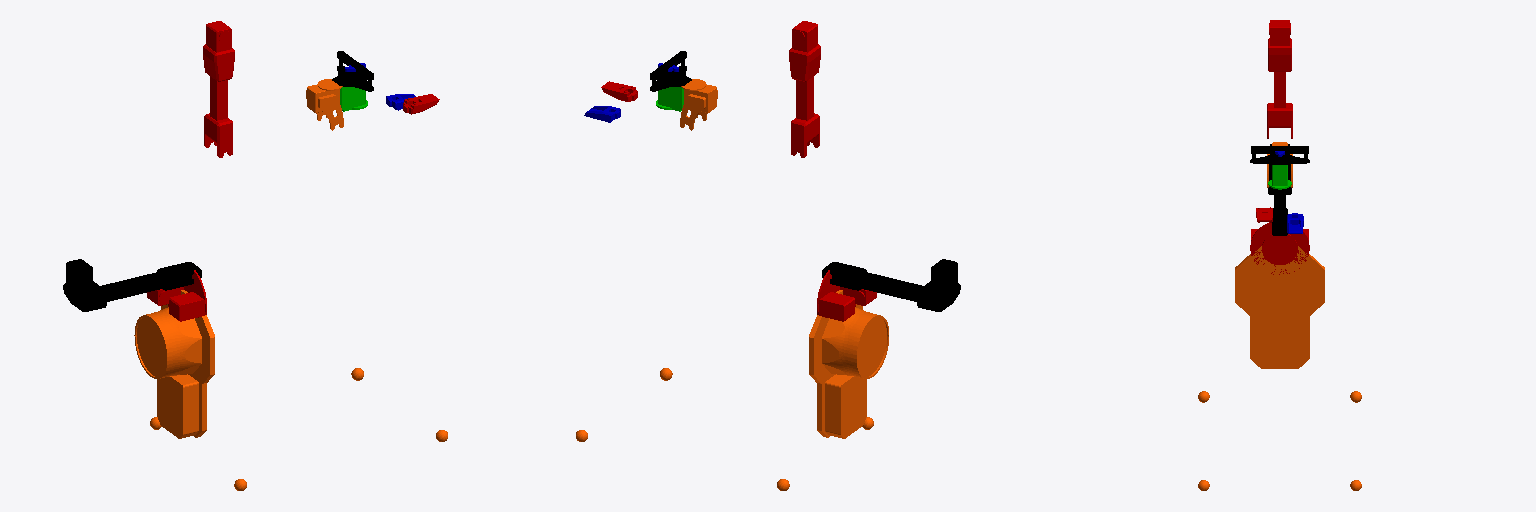
--- Facts derived from the render (not from the file) ---
3 views of the same robot in one strip: view 1: azimuth 30°, elevation 25°; view 2: azimuth 150°, elevation 25°; view 3: azimuth 270°, elevation 25° (orthographic).
Robot: a1_description — 34 links, 33 joints (17 revolute, 2 prismatic, 14 fixed); root link base; default pose: all joints at 0 but 6 set to mid-range because 0 is outside their limits (FR_calf_joint = -1.81, FL_calf_joint = -1.81, RR_calf_joint = -1.81, RL_calf_joint = -1.81, left_finger = 0.026, right_finger = -0.026).
Visible links, largest first — view 1: wx200/ba_link, wx200/upper_arm_link, wx200/forearm_link, wx200/shoulder_link, wx200/wrist_link, wx200/gripper_bar_link, wx200/gripper_link; view 2: wx200/ba_link, wx200/upper_arm_link, wx200/forearm_link, wx200/shoulder_link, wx200/wrist_link, wx200/gripper_bar_link, wx200/gripper_link; view 3: wx200/ba_link, wx200/forearm_link, wx200/shoulder_link, wx200/gripper_bar_link, wx200/upper_arm_link.
Link boxes in pixels (left/top/right/bottom): wx200/ba_link: left=134, top=290, right=214, bottom=438; wx200/upper_arm_link: left=63, top=259, right=201, bottom=311; wx200/forearm_link: left=203, top=21, right=234, bottom=157; wx200/shoulder_link: left=147, top=270, right=206, bottom=321; wx200/wrist_link: left=306, top=79, right=343, bottom=130; wx200/gripper_bar_link: left=332, top=51, right=373, bottom=91; wx200/gripper_link: left=340, top=87, right=367, bottom=111; wx200/ba_link: left=809, top=290, right=888, bottom=438; wx200/upper_arm_link: left=822, top=259, right=960, bottom=311; wx200/forearm_link: left=789, top=21, right=820, bottom=157; wx200/shoulder_link: left=817, top=270, right=876, bottom=321; wx200/wrist_link: left=680, top=79, right=717, bottom=130; wx200/gripper_bar_link: left=650, top=51, right=691, bottom=91; wx200/gripper_link: left=656, top=87, right=683, bottom=111; wx200/ba_link: left=1235, top=246, right=1324, bottom=368; wx200/forearm_link: left=1267, top=20, right=1292, bottom=138; wx200/shoulder_link: left=1250, top=222, right=1309, bottom=274; wx200/gripper_bar_link: left=1250, top=146, right=1309, bottom=164; wx200/upper_arm_link: left=1268, top=144, right=1291, bottom=235.
Size in the robot's own frame: 0.6423 by 0.2816 by 0.7352 metres.
Meshes: 14 distinct files referenced, 10 mesh visuals loaded (9 Collada DAE); not drawn: 13 (reference not matched to a file when rendering).

URDF robot description (a1_description):
<?xml version="1.0" encoding="utf-8"?>
<!-- =================================================================================== -->
<!-- |    This document was autogenerated by xacro from robot.xacro                    | -->
<!-- |    EDITING THIS FILE BY HAND IS NOT RECOMMENDED                                 | -->
<!-- =================================================================================== -->
<robot name="a1_description">
  <!-- dynamics inertial value -->
  <!-- trunk -->
  <!-- <xacro:property name="trunk_mass" value="5.660"/>
    <xacro:property name="trunk_com_x" value="0.012731"/>
    <xacro:property name="trunk_com_y" value="0.002186"/>
    <xacro:property name="trunk_com_z" value="0.000515"/>
    <xacro:property name="trunk_ixx" value="0.016839930"/>
    <xacro:property name="trunk_ixy" value="0.000083902"/>
    <xacro:property name="trunk_ixz" value="0.000597679"/>
    <xacro:property name="trunk_iyy" value="0.056579028"/>
    <xacro:property name="trunk_iyz" value="0.000025134"/>
    <xacro:property name="trunk_izz" value="0.064713601"/> -->
  <material name="black">
    <color rgba="0.0 0.0 0.0 1.0"/>
  </material>
  <material name="blue">
    <color rgba="0.0 0.0 0.8 1.0"/>
  </material>
  <material name="green">
    <color rgba="0.0 0.8 0.0 1.0"/>
  </material>
  <material name="grey">
    <color rgba="0.2 0.2 0.2 1.0"/>
  </material>
  <material name="silver">
    <color rgba="0.913725490196 0.913725490196 0.847058823529 1.0"/>
  </material>
  <material name="orange">
    <color rgba="1.0 0.423529411765 0.0392156862745 1.0"/>
  </material>
  <material name="brown">
    <color rgba="0.870588235294 0.811764705882 0.764705882353 1.0"/>
  </material>
  <material name="red">
    <color rgba="0.8 0.0 0.0 1.0"/>
  </material>
  <material name="white">
    <color rgba="1.0 1.0 1.0 1.0"/>
  </material>
  <!-- ros_control plugin -->
  <gazebo>
    <plugin filename="libgazebo_ros_control.so" name="gazebo_ros_control">
      <robotNamespace>/a1_gazebo</robotNamespace>
      <robotSimType>gazebo_ros_control/DefaultRobotHWSim</robotSimType>
    </plugin>
  </gazebo>
  <!-- Show the trajectory of trunk center. -->
  <gazebo>
    <plugin filename="libLinkPlot3DPlugin.so" name="3dplotTrunk">
      <frequency>10</frequency>
      <plot>
        <link>base</link>
        <pose>0 0 0 0 0 0</pose>
        <material>Gazebo/Yellow</material>
      </plot>
    </plugin>
  </gazebo>
  <!-- Show the trajectory of foot. You can add another trajectory about another foot. -->
  <gazebo>
    <plugin filename="libLinkPlot3DPlugin.so" name="3dplot">
      <frequency>1000</frequency>
      <plot>
        <link>FR_calf</link>
        <pose>0 0 -0.2 0 0 0</pose>
        <material>Gazebo/Yellow</material>
      </plot>
    </plugin>
  </gazebo>
  <gazebo>
    <plugin filename="libgazebo_ros_force.so" name="gazebo_ros_force">
      <bodyName>trunk</bodyName>
      <topicName>/apply_force/trunk</topicName>
    </plugin>
  </gazebo>
  <gazebo reference="imu_link">
    <gravity>true</gravity>
    <sensor name="imu_sensor" type="imu">
      <always_on>true</always_on>
      <update_rate>1000</update_rate>
      <visualize>true</visualize>
      <topic>__default_topic__</topic>
      <plugin filename="libgazebo_ros_imu_sensor.so" name="imu_plugin">
        <topicName>trunk_imu</topicName>
        <bodyName>imu_link</bodyName>
        <updateRateHZ>1000.0</updateRateHZ>
        <gaussianNoise>0.0</gaussianNoise>
        <xyzOffset>0 0 0</xyzOffset>
        <rpyOffset>0 0 0</rpyOffset>
        <frameName>imu_link</frameName>
      </plugin>
      <pose>0 0 0 0 0 0</pose>
    </sensor>
  </gazebo>
  <!-- Foot contacts. -->
  <gazebo reference="FR_calf">
    <sensor name="FR_foot_contact" type="contact">
      <update_rate>100</update_rate>
      <plugin filename="libunitreeFootContactPlugin.so" name="contactPlugin"/>
      <contact>
        <collision>FR_calf_fixed_joint_lump__FR_foot_collision_1</collision>
      </contact>
    </sensor>
  </gazebo>
  <gazebo reference="FL_calf">
    <sensor name="FL_foot_contact" type="contact">
      <update_rate>100</update_rate>
      <plugin filename="libunitreeFootContactPlugin.so" name="contactPlugin"/>
      <contact>
        <collision>FL_calf_fixed_joint_lump__FL_foot_collision_1</collision>
      </contact>
    </sensor>
  </gazebo>
  <gazebo reference="RR_calf">
    <sensor name="RR_foot_contact" type="contact">
      <update_rate>100</update_rate>
      <plugin filename="libunitreeFootContactPlugin.so" name="contactPlugin"/>
      <contact>
        <collision>RR_calf_fixed_joint_lump__RR_foot_collision_1</collision>
      </contact>
    </sensor>
  </gazebo>
  <gazebo reference="RL_calf">
    <sensor name="RL_foot_contact" type="contact">
      <update_rate>100</update_rate>
      <plugin filename="libunitreeFootContactPlugin.so" name="contactPlugin"/>
      <contact>
        <collision>RL_calf_fixed_joint_lump__RL_foot_collision_1</collision>
      </contact>
    </sensor>
  </gazebo>
  <!-- Visualization of Foot contacts. -->
  <gazebo reference="FR_foot">
    <visual>
      <plugin filename="libunitreeDrawForcePlugin.so" name="drawForcePlugin">
        <topicName>FR_foot_contact</topicName>
      </plugin>
    </visual>
  </gazebo>
  <gazebo reference="FL_foot">
    <visual>
      <plugin filename="libunitreeDrawForcePlugin.so" name="drawForcePlugin">
        <topicName>FL_foot_contact</topicName>
      </plugin>
    </visual>
  </gazebo>
  <gazebo reference="RR_foot">
    <visual>
      <plugin filename="libunitreeDrawForcePlugin.so" name="drawForcePlugin">
        <topicName>RR_foot_contact</topicName>
      </plugin>
    </visual>
  </gazebo>
  <gazebo reference="RL_foot">
    <visual>
      <plugin filename="libunitreeDrawForcePlugin.so" name="drawForcePlugin">
        <topicName>RL_foot_contact</topicName>
      </plugin>
    </visual>
  </gazebo>
  <gazebo reference="base">
    <material>Gazebo/Green</material>
    <turnGravityOff>false</turnGravityOff>
  </gazebo>
  <gazebo reference="trunk">
    <mu1>0.2</mu1>
    <mu2>0.2</mu2>
    <kp value="1000000.0"/>
    <kd value="1.0"/>
  </gazebo>
  <gazebo reference="stick_link">
    <mu1>0.2</mu1>
    <mu2>0.2</mu2>
    <material>Gazebo/White</material>
  </gazebo>
  <gazebo reference="imu_link">
    <mu1>0.2</mu1>
    <mu2>0.2</mu2>
    <material>Gazebo/Red</material>
  </gazebo>
  <!-- FL leg -->
  <gazebo reference="FL_hip">
    <mu1>0.2</mu1>
    <mu2>0.2</mu2>
    <material>Gazebo/DarkGrey</material>
  </gazebo>
  <gazebo reference="FL_thigh">
    <mu1>0.2</mu1>
    <mu2>0.2</mu2>
    <self_collide>1</self_collide>
    <material>Gazebo/DarkGrey</material>
    <kp value="1000000.0"/>
    <kd value="1.0"/>
  </gazebo>
  <gazebo reference="FL_calf">
    <mu1>0.2</mu1>
    <mu2>0.2</mu2>
    <self_collide>1</self_collide>
  </gazebo>
  <gazebo reference="FL_foot">
    <mu1>0.6</mu1>
    <mu2>0.6</mu2>
    <self_collide>1</self_collide>
    <material>Gazebo/DarkGrey</material>
    <kp value="1000000.0"/>
    <kd value="1.0"/>
  </gazebo>
  <!-- FR leg -->
  <gazebo reference="FR_hip">
    <mu1>0.2</mu1>
    <mu2>0.2</mu2>
    <material>Gazebo/DarkGrey</material>
  </gazebo>
  <gazebo reference="FR_thigh">
    <mu1>0.2</mu1>
    <mu2>0.2</mu2>
    <self_collide>1</self_collide>
    <material>Gazebo/DarkGrey</material>
    <kp value="1000000.0"/>
    <kd value="1.0"/>
  </gazebo>
  <gazebo reference="FR_calf">
    <mu1>0.2</mu1>
    <mu2>0.2</mu2>
    <self_collide>1</self_collide>
  </gazebo>
  <gazebo reference="FR_foot">
    <mu1>0.6</mu1>
    <mu2>0.6</mu2>
    <self_collide>1</self_collide>
    <material>Gazebo/DarkGrey</material>
    <kp value="1000000.0"/>
    <kd value="1.0"/>
  </gazebo>
  <!-- RL leg -->
  <gazebo reference="RL_hip">
    <mu1>0.2</mu1>
    <mu2>0.2</mu2>
    <material>Gazebo/DarkGrey</material>
  </gazebo>
  <gazebo reference="RL_thigh">
    <mu1>0.2</mu1>
    <mu2>0.2</mu2>
    <self_collide>1</self_collide>
    <material>Gazebo/DarkGrey</material>
    <kp value="1000000.0"/>
    <kd value="1.0"/>
  </gazebo>
  <gazebo reference="RL_calf">
    <mu1>0.2</mu1>
    <mu2>0.2</mu2>
    <self_collide>1</self_collide>
  </gazebo>
  <gazebo reference="RL_foot">
    <mu1>0.6</mu1>
    <mu2>0.6</mu2>
    <self_collide>1</self_collide>
    <material>Gazebo/DarkGrey</material>
    <kp value="1000000.0"/>
    <kd value="1.0"/>
  </gazebo>
  <!-- RR leg -->
  <gazebo reference="RR_hip">
    <mu1>0.2</mu1>
    <mu2>0.2</mu2>
    <material>Gazebo/DarkGrey</material>
  </gazebo>
  <gazebo reference="RR_thigh">
    <mu1>0.2</mu1>
    <mu2>0.2</mu2>
    <self_collide>1</self_collide>
    <material>Gazebo/DarkGrey</material>
    <kp value="1000000.0"/>
    <kd value="1.0"/>
  </gazebo>
  <gazebo reference="RR_calf">
    <mu1>0.2</mu1>
    <mu2>0.2</mu2>
    <self_collide>1</self_collide>
  </gazebo>
  <gazebo reference="RR_foot">
    <mu1>0.6</mu1>
    <mu2>0.6</mu2>
    <self_collide>1</self_collide>
    <material>Gazebo/DarkGrey</material>
    <kp value="1000000.0"/>
    <kd value="1.0"/>
  </gazebo>
  <!-- <xacro:include filename="$(find a1_gazebo)/launch/stairs.urdf.xacro"/> -->
  <!-- <xacro:stairs stairs="15" xpos="0" ypos="0" zpos="0" /> -->
  <!-- Debug mode will hung up the robot, use "true" or "false" to switch it. -->
  <!-- <xacro:if value="$(arg DEBUG)">
        <link name="world"/>
        <joint name="base_static_joint" type="fixed">
            <origin rpy="0 0 0" xyz="0 0 0"/>
            <parent link="world"/>
            <child link="base"/>
        </joint>
    </xacro:if>  -->
  <link name="base">
    <visual>
      <origin rpy="0 0 0" xyz="0 0 0"/>
      <geometry>
        <box size="0.001 0.001 0.001"/>
      </geometry>
    </visual>
  </link>
  <joint name="floating_base" type="fixed">
    <origin rpy="0 0 0" xyz="0 0 0"/>
    <parent link="base"/>
    <child link="trunk"/>
  </joint>
  <link name="trunk">
    <visual>
      <origin rpy="0 0 0" xyz="0 0 0"/>
      <geometry>
        <mesh filename="../meshes/trunk.dae" scale="1 1 1"/>
      </geometry>
      <material name="orange"/>
    </visual>
    <collision>
      <origin rpy="0 0 0" xyz="0 0 0"/>
      <geometry>
        <box size="0.267 0.194 0.114"/>
      </geometry>
    </collision>
    <inertial>
      <origin rpy="0 0 0" xyz="0.0 0.0041 -0.0005"/>
      <mass value="6.0"/>
      <inertia ixx="0.0158533" ixy="-3.66e-05" ixz="-6.11e-05" iyy="0.0377999" iyz="-2.75e-05" izz="0.0456542"/>
    </inertial>
  </link>
  <joint name="imu_joint" type="fixed">
    <parent link="trunk"/>
    <child link="imu_link"/>
    <origin rpy="0 0 0" xyz="0 0 0"/>
  </joint>
  <link name="imu_link">
    <inertial>
      <mass value="0.001"/>
      <origin rpy="0 0 0" xyz="0 0 0"/>
      <inertia ixx="0.0001" ixy="0" ixz="0" iyy="0.0001" iyz="0" izz="0.0001"/>
    </inertial>
    <visual>
      <origin rpy="0 0 0" xyz="0 0 0"/>
      <geometry>
        <box size="0.001 0.001 0.001"/>
      </geometry>
      <material name="red"/>
    </visual>
    <collision>
      <origin rpy="0 0 0" xyz="0 0 0"/>
      <geometry>
        <box size=".001 .001 .001"/>
      </geometry>
    </collision>
  </link>
  <joint name="FR_hip_joint" type="revolute">
    <origin rpy="0 0 0" xyz="0.1805 -0.047 0"/>
    <parent link="trunk"/>
    <child link="FR_hip"/>
    <axis xyz="1 0 0"/>
    <dynamics damping="10.0" friction="10."/>
    <limit effort="33.5" lower="-0.802851455917" upper="0.802851455917" velocity="21"/>
  </joint>
  <link name="FR_hip">
    <visual>
      <origin rpy="3.14159265359 0 0" xyz="0 0 0"/>
      <geometry>
        <mesh filename="../meshes/hip.dae" scale="1 1 1"/>
      </geometry>
      <material name="orange"/>
    </visual>
    <collision>
      <origin rpy="1.57079632679 0 0" xyz="0 0 0"/>
      <geometry>
        <cylinder length="0.04" radius="0.046"/>
      </geometry>
    </collision>
    <inertial>
      <origin rpy="0 0 0" xyz="-0.003311 -0.000635 3.1e-05"/>
      <mass value="0.696"/>
      <inertia ixx="0.000469246" ixy="9.409e-06" ixz="-3.42e-07" iyy="0.00080749" iyz="4.66e-07" izz="0.000552929"/>
    </inertial>
  </link>
  <joint name="FR_hip_fixed" type="fixed">
    <origin rpy="0 0 0" xyz="0 -0.081 0"/>
    <parent link="FR_hip"/>
    <child link="FR_thigh_shoulder"/>
  </joint>
  <!-- this link is only for collision -->
  <link name="FR_thigh_shoulder">
    <collision>
      <origin rpy="1.57079632679 0 0" xyz="0 0 0"/>
      <geometry>
        <cylinder length="0.032" radius="0.041"/>
      </geometry>
    </collision>
  </link>
  <joint name="FR_thigh_joint" type="revolute">
    <origin rpy="0 0 0" xyz="0 -0.0838 0"/>
    <parent link="FR_hip"/>
    <child link="FR_thigh"/>
    <axis xyz="0 1 0"/>
    <dynamics damping="10.0" friction="10."/>
    <limit effort="33.5" lower="-1.0471975512" upper="4.18879020479" velocity="21"/>
  </joint>
  <link name="FR_thigh">
    <visual>
      <origin rpy="0 0 0" xyz="0 0 0"/>
      <geometry>
        <mesh filename="../meshes/thigh_mirror.dae" scale="1 1 1"/>
      </geometry>
      <material name="orange"/>
    </visual>
    <collision>
      <origin rpy="0 1.57079632679 0" xyz="0 0 -0.1"/>
      <geometry>
        <box size="0.2 0.0245 0.034"/>
      </geometry>
    </collision>
    <inertial>
      <origin rpy="0 0 0" xyz="-0.003237 0.022327 -0.027326"/>
      <mass value="1.013"/>
      <inertia ixx="0.005529065" ixy="-4.825e-06" ixz="0.000343869" iyy="0.005139339" iyz="-2.2448e-05" izz="0.001367788"/>
    </inertial>
  </link>
  <joint name="FR_calf_joint" type="revolute">
    <origin rpy="0 0 0" xyz="0 0 -0.2"/>
    <parent link="FR_thigh"/>
    <child link="FR_calf"/>
    <axis xyz="0 1 0"/>
    <dynamics damping="10.0" friction="10."/>
    <limit effort="33.5" lower="-2.69653369433" upper="-0.916297857297" velocity="21"/>
  </joint>
  <link name="FR_calf">
    <visual>
      <origin rpy="0 0 0" xyz="0 0 0"/>
      <geometry>
        <mesh filename="../meshes/calf.dae" scale="1 1 1"/>
      </geometry>
      <material name="orange"/>
    </visual>
    <collision>
      <origin rpy="0 1.57079632679 0" xyz="0 0 -0.1"/>
      <geometry>
        <box size="0.2 0.016 0.016"/>
      </geometry>
    </collision>
    <inertial>
      <origin rpy="0 0 0" xyz="0.006435 0.0 -0.107388"/>
      <mass value="0.166"/>
      <inertia ixx="0.002997972" ixy="0.0" ixz="-0.000141163" iyy="0.003014022" iyz="0.0" izz="3.2426e-05"/>
    </inertial>
  </link>
  <joint name="FR_foot_fixed" type="fixed" dont_collapse="true">
    <origin rpy="0 0 0" xyz="0 0 -0.2"/>
    <parent link="FR_calf"/>
    <child link="FR_foot"/>
  </joint>
  <link name="FR_foot">
    <visual>
      <origin rpy="0 0 0" xyz="0 0 0"/>
      <geometry>
        <sphere radius="0.01"/>
      </geometry>
      <material name="orange"/>
    </visual>
    <collision>
      <origin rpy="0 0 0" xyz="0 0 0"/>
      <geometry>
        <sphere radius="0.02"/>
      </geometry>
    </collision>
    <inertial>
      <mass value="0.06"/>
      <inertia ixx="9.6e-06" ixy="0.0" ixz="0.0" iyy="9.6e-06" iyz="0.0" izz="9.6e-06"/>
    </inertial>
  </link>
  <transmission name="FR_hip_tran">
    <type>transmission_interface/SimpleTransmission</type>
    <joint name="FR_hip_joint">
      <hardwareInterface>hardware_interface/EffortJointInterface</hardwareInterface>
    </joint>
    <actuator name="FR_hip_motor">
      <hardwareInterface>hardware_interface/EffortJointInterface</hardwareInterface>
      <mechanicalReduction>1</mechanicalReduction>
    </actuator>
  </transmission>
  <transmission name="FR_thigh_tran">
    <type>transmission_interface/SimpleTransmission</type>
    <joint name="FR_thigh_joint">
      <hardwareInterface>hardware_interface/EffortJointInterface</hardwareInterface>
    </joint>
    <actuator name="FR_thigh_motor">
      <hardwareInterface>hardware_interface/EffortJointInterface</hardwareInterface>
      <mechanicalReduction>1</mechanicalReduction>
    </actuator>
  </transmission>
  <transmission name="FR_calf_tran">
    <type>transmission_interface/SimpleTransmission</type>
    <joint name="FR_calf_joint">
      <hardwareInterface>hardware_interface/EffortJointInterface</hardwareInterface>
    </joint>
    <actuator name="FR_calf_motor">
      <hardwareInterface>hardware_interface/EffortJointInterface</hardwareInterface>
      <mechanicalReduction>1</mechanicalReduction>
    </actuator>
  </transmission>
  <joint name="FL_hip_joint" type="revolute">
    <origin rpy="0 0 0" xyz="0.1805 0.047 0"/>
    <parent link="trunk"/>
    <child link="FL_hip"/>
    <axis xyz="1 0 0"/>
    <dynamics damping="10.0" friction="10."/>
    <limit effort="33.5" lower="-0.802851455917" upper="0.802851455917" velocity="21"/>
  </joint>
  <link name="FL_hip">
    <visual>
      <origin rpy="0 0 0" xyz="0 0 0"/>
      <geometry>
        <mesh filename="../meshes/hip.dae" scale="1 1 1"/>
      </geometry>
      <material name="orange"/>
    </visual>
    <collision>
      <origin rpy="1.57079632679 0 0" xyz="0 0 0"/>
      <geometry>
        <cylinder length="0.04" radius="0.046"/>
      </geometry>
    </collision>
    <inertial>
      <origin rpy="0 0 0" xyz="-0.003311 0.000635 3.1e-05"/>
      <mass value="0.696"/>
      <inertia ixx="0.000469246" ixy="-9.409e-06" ixz="-3.42e-07" iyy="0.00080749" iyz="-4.66e-07" izz="0.000552929"/>
    </inertial>
  </link>
  <joint name="FL_hip_fixed" type="fixed">
    <origin rpy="0 0 0" xyz="0 0.081 0"/>
    <parent link="FL_hip"/>
    <child link="FL_thigh_shoulder"/>
  </joint>
  <!-- this link is only for collision -->
  <link name="FL_thigh_shoulder">
    <collision>
      <origin rpy="1.57079632679 0 0" xyz="0 0 0"/>
      <geometry>
        <cylinder length="0.032" radius="0.041"/>
      </geometry>
    </collision>
  </link>
  <joint name="FL_thigh_joint" type="revolute">
    <origin rpy="0 0 0" xyz="0 0.0838 0"/>
    <parent link="FL_hip"/>
    <child link="FL_thigh"/>
    <axis xyz="0 1 0"/>
    <dynamics damping="10.0" friction="10."/>
    <limit effort="33.5" lower="-1.0471975512" upper="4.18879020479" velocity="21"/>
  </joint>
  <link name="FL_thigh">
    <visual>
      <origin rpy="0 0 0" xyz="0 0 0"/>
      <geometry>
        <mesh filename="../meshes/thigh.dae" scale="1 1 1"/>
      </geometry>
      <material name="orange"/>
    </visual>
    <collision>
      <origin rpy="0 1.57079632679 0" xyz="0 0 -0.1"/>
      <geometry>
        <box size="0.2 0.0245 0.034"/>
      </geometry>
    </collision>
    <inertial>
      <origin rpy="0 0 0" xyz="-0.003237 -0.022327 -0.027326"/>
      <mass value="1.013"/>
      <inertia ixx="0.005529065" ixy="4.825e-06" ixz="0.000343869" iyy="0.005139339" iyz="2.2448e-05" izz="0.001367788"/>
    </inertial>
  </link>
  <joint name="FL_calf_joint" type="revolute">
    <origin rpy="0 0 0" xyz="0 0 -0.2"/>
    <parent link="FL_thigh"/>
    <child link="FL_calf"/>
    <axis xyz="0 1 0"/>
    <dynamics damping="10.0" friction="10."/>
    <limit effort="33.5" lower="-2.69653369433" upper="-0.916297857297" velocity="21"/>
  </joint>
  <link name="FL_calf">
    <visual>
      <origin rpy="0 0 0" xyz="0 0 0"/>
      <geometry>
        <mesh filename="../meshes/calf.dae" scale="1 1 1"/>
      </geometry>
      <material name="orange"/>
    </visual>
    <collision>
      <origin rpy="0 1.57079632679 0" xyz="0 0 -0.1"/>
      <geometry>
        <box size="0.2 0.016 0.016"/>
      </geometry>
    </collision>
    <inertial>
      <origin rpy="0 0 0" xyz="0.006435 0.0 -0.107388"/>
      <mass value="0.166"/>
      <inertia ixx="0.002997972" ixy="0.0" ixz="-0.000141163" iyy="0.003014022" iyz="0.0" izz="3.2426e-05"/>
    </inertial>
  </link>
  <joint name="FL_foot_fixed" type="fixed" dont_collapse="true">
    <origin rpy="0 0 0" xyz="0 0 -0.2"/>
    <parent link="FL_calf"/>
    <child link="FL_foot"/>
  </joint>
  <link name="FL_foot">
    <visual>
      <origin rpy="0 0 0" xyz="0 0 0"/>
      <geometry>
        <sphere radius="0.01"/>
      </geometry>
      <material name="orange"/>
    </visual>
    <collision>
      <origin rpy="0 0 0" xyz="0 0 0"/>
      <geometry>
        <sphere radius="0.02"/>
      </geometry>
    </collision>
    <inertial>
      <mass value="0.06"/>
      <inertia ixx="9.6e-06" ixy="0.0" ixz="0.0" iyy="9.6e-06" iyz="0.0" izz="9.6e-06"/>
    </inertial>
  </link>
  <transmission name="FL_hip_tran">
    <type>transmission_interface/SimpleTransmission</type>
    <joint name="FL_hip_joint">
      <hardwareInterface>hardware_interface/EffortJointInterface</hardwareInterface>
    </joint>
    <actuator name="FL_hip_motor">
      <hardwareInterface>hardware_interface/EffortJointInterface</hardwareInterface>
      <mechanicalReduction>1</mechanicalReduction>
    </actuator>
  </transmission>
  <transmission name="FL_thigh_tran">
    <type>transmission_interface/SimpleTransmission</type>
    <joint name="FL_thigh_joint">
      <hardwareInterface>hardware_interface/EffortJointInterface</hardwareInterface>
    </joint>
    <actuator name="FL_thigh_motor">
      <hardwareInterface>hardware_interface/EffortJointInterface</hardwareInterface>
      <mechanicalReduction>1</mechanicalReduction>
    </actuator>
  </transmission>
  <transmission name="FL_calf_tran">
    <type>transmission_interface/SimpleTransmission</type>
    <joint name="FL_calf_joint">
      <hardwareInterface>hardware_interface/EffortJointInterface</hardwareInterface>
    </joint>
    <actuator name="FL_calf_motor">
      <hardwareInterface>hardware_interface/EffortJointInterface</hardwareInterface>
      <mechanicalReduction>1</mechanicalReduction>
    </actuator>
  </transmission>
  <joint name="RR_hip_joint" type="revolute">
    <origin rpy="0 0 0" xyz="-0.1805 -0.047 0"/>
    <parent link="trunk"/>
    <child link="RR_hip"/>
    <axis xyz="1 0 0"/>
    <dynamics damping="10.0" friction="10."/>
    <limit effort="33.5" lower="-0.802851455917" upper="0.802851455917" velocity="21"/>
  </joint>
  <link name="RR_hip">
    <visual>
      <origin rpy="3.14159265359 3.14159265359 0" xyz="0 0 0"/>
      <geometry>
        <mesh filename="../meshes/hip.dae" scale="1 1 1"/>
      </geometry>
      <material name="orange"/>
    </visual>
    <collision>
      <origin rpy="1.57079632679 0 0" xyz="0 0 0"/>
      <geometry>
        <cylinder length="0.04" radius="0.046"/>
      </geometry>
    </collision>
    <inertial>
      <origin rpy="0 0 0" xyz="0.003311 -0.000635 3.1e-05"/>
      <mass value="0.696"/>
      <inertia ixx="0.000469246" ixy="-9.409e-06" ixz="3.42e-07" iyy="0.00080749" iyz="4.66e-07" izz="0.000552929"/>
    </inertial>
  </link>
  <joint name="RR_hip_fixed" type="fixed">
    <origin rpy="0 0 0" xyz="0 -0.081 0"/>
    <parent link="RR_hip"/>
    <child link="RR_thigh_shoulder"/>
  </joint>
  <!-- this link is only for collision -->
  <link name="RR_thigh_shoulder">
    <collision>
      <origin rpy="1.57079632679 0 0" xyz="0 0 0"/>
      <geometry>
        <cylinder length="0.032" radius="0.041"/>
      </geometry>
    </collision>
  </link>
  <joint name="RR_thigh_joint" type="revolute">
    <origin rpy="0 0 0" xyz="0 -0.0838 0"/>
    <parent link="RR_hip"/>
    <child link="RR_thigh"/>
    <axis xyz="0 1 0"/>
    <dynamics damping="10.0" friction="10."/>
    <limit effort="33.5" lower="-1.0471975512" upper="4.18879020479" velocity="21"/>
  </joint>
  <link name="RR_thigh">
    <visual>
      <origin rpy="0 0 0" xyz="0 0 0"/>
      <geometry>
        <mesh filename="../meshes/thigh_mirror.dae" scale="1 1 1"/>
      </geometry>
      <material name="orange"/>
    </visual>
    <collision>
      <origin rpy="0 1.57079632679 0" xyz="0 0 -0.1"/>
      <geometry>
        <box size="0.2 0.0245 0.034"/>
      </geometry>
    </collision>
    <inertial>
      <origin rpy="0 0 0" xyz="-0.003237 0.022327 -0.027326"/>
      <mass value="1.013"/>
      <inertia ixx="0.005529065" ixy="-4.825e-06" ixz="0.000343869" iyy="0.005139339" iyz="-2.2448e-05" izz="0.001367788"/>
    </inertial>
  </link>
  <joint name="RR_calf_joint" type="revolute">
    <origin rpy="0 0 0" xyz="0 0 -0.2"/>
    <parent link="RR_thigh"/>
    <child link="RR_calf"/>
    <axis xyz="0 1 0"/>
    <dynamics damping="10.0" friction="10."/>
    <limit effort="33.5" lower="-2.69653369433" upper="-0.916297857297" velocity="21"/>
  </joint>
  <link name="RR_calf">
    <visual>
      <origin rpy="0 0 0" xyz="0 0 0"/>
      <geometry>
        <mesh filename="../meshes/calf.dae" scale="1 1 1"/>
      </geometry>
      <material name="orange"/>
    </visual>
    <collision>
      <origin rpy="0 1.57079632679 0" xyz="0 0 -0.1"/>
      <geometry>
        <box size="0.2 0.016 0.016"/>
      </geometry>
    </collision>
    <inertial>
      <origin rpy="0 0 0" xyz="0.006435 0.0 -0.107388"/>
      <mass value="0.166"/>
      <inertia ixx="0.002997972" ixy="0.0" ixz="-0.000141163" iyy="0.003014022" iyz="0.0" izz="3.2426e-05"/>
    </inertial>
  </link>
  <joint name="RR_foot_fixed" type="fixed" dont_collapse="true">
    <origin rpy="0 0 0" xyz="0 0 -0.2"/>
    <parent link="RR_calf"/>
    <child link="RR_foot"/>
  </joint>
  <link name="RR_foot">
    <visual>
      <origin rpy="0 0 0" xyz="0 0 0"/>
      <geometry>
        <sphere radius="0.01"/>
      </geometry>
      <material name="orange"/>
    </visual>
    <collision>
      <origin rpy="0 0 0" xyz="0 0 0"/>
      <geometry>
        <sphere radius="0.02"/>
      </geometry>
    </collision>
    <inertial>
      <mass value="0.06"/>
      <inertia ixx="9.6e-06" ixy="0.0" ixz="0.0" iyy="9.6e-06" iyz="0.0" izz="9.6e-06"/>
    </inertial>
  </link>
  <transmission name="RR_hip_tran">
    <type>transmission_interface/SimpleTransmission</type>
    <joint name="RR_hip_joint">
      <hardwareInterface>hardware_interface/EffortJointInterface</hardwareInterface>
    </joint>
    <actuator name="RR_hip_motor">
      <hardwareInterface>hardware_interface/EffortJointInterface</hardwareInterface>
      <mechanicalReduction>1</mechanicalReduction>
    </actuator>
  </transmission>
  <transmission name="RR_thigh_tran">
    <type>transmission_interface/SimpleTransmission</type>
    <joint name="RR_thigh_joint">
      <hardwareInterface>hardware_interface/EffortJointInterface</hardwareInterface>
    </joint>
    <actuator name="RR_thigh_motor">
      <hardwareInterface>hardware_interface/EffortJointInterface</hardwareInterface>
      <mechanicalReduction>1</mechanicalReduction>
    </actuator>
  </transmission>
  <transmission name="RR_calf_tran">
    <type>transmission_interface/SimpleTransmission</type>
    <joint name="RR_calf_joint">
      <hardwareInterface>hardware_interface/EffortJointInterface</hardwareInterface>
    </joint>
    <actuator name="RR_calf_motor">
      <hardwareInterface>hardware_interface/EffortJointInterface</hardwareInterface>
      <mechanicalReduction>1</mechanicalReduction>
    </actuator>
  </transmission>
  <joint name="RL_hip_joint" type="revolute">
    <origin rpy="0 0 0" xyz="-0.1805 0.047 0"/>
    <parent link="trunk"/>
    <child link="RL_hip"/>
    <axis xyz="1 0 0"/>
    <dynamics damping="10.0" friction="10."/>
    <limit effort="33.5" lower="-0.802851455917" upper="0.802851455917" velocity="21"/>
  </joint>
  <link name="RL_hip">
    <visual>
      <origin rpy="0 3.14159265359 0" xyz="0 0 0"/>
      <geometry>
        <mesh filename="../meshes/hip.dae" scale="1 1 1"/>
      </geometry>
      <material name="orange"/>
    </visual>
    <collision>
      <origin rpy="1.57079632679 0 0" xyz="0 0 0"/>
      <geometry>
        <cylinder length="0.04" radius="0.046"/>
      </geometry>
    </collision>
    <inertial>
      <origin rpy="0 0 0" xyz="0.003311 0.000635 3.1e-05"/>
      <mass value="0.696"/>
      <inertia ixx="0.000469246" ixy="9.409e-06" ixz="3.42e-07" iyy="0.00080749" iyz="-4.66e-07" izz="0.000552929"/>
    </inertial>
  </link>
  <joint name="RL_hip_fixed" type="fixed">
    <origin rpy="0 0 0" xyz="0 0.081 0"/>
    <parent link="RL_hip"/>
    <child link="RL_thigh_shoulder"/>
  </joint>
  <!-- this link is only for collision -->
  <link name="RL_thigh_shoulder">
    <collision>
      <origin rpy="1.57079632679 0 0" xyz="0 0 0"/>
      <geometry>
        <cylinder length="0.032" radius="0.041"/>
      </geometry>
    </collision>
  </link>
  <joint name="RL_thigh_joint" type="revolute">
    <origin rpy="0 0 0" xyz="0 0.0838 0"/>
    <parent link="RL_hip"/>
    <child link="RL_thigh"/>
    <axis xyz="0 1 0"/>
    <dynamics damping="10.0" friction="10."/>
    <limit effort="33.5" lower="-1.0471975512" upper="4.18879020479" velocity="21"/>
  </joint>
  <link name="RL_thigh">
    <visual>
      <origin rpy="0 0 0" xyz="0 0 0"/>
      <geometry>
        <mesh filename="../meshes/thigh.dae" scale="1 1 1"/>
      </geometry>
      <material name="orange"/>
    </visual>
    <collision>
      <origin rpy="0 1.57079632679 0" xyz="0 0 -0.1"/>
      <geometry>
        <box size="0.2 0.0245 0.034"/>
      </geometry>
    </collision>
    <inertial>
      <origin rpy="0 0 0" xyz="-0.003237 -0.022327 -0.027326"/>
      <mass value="1.013"/>
      <inertia ixx="0.005529065" ixy="4.825e-06" ixz="0.000343869" iyy="0.005139339" iyz="2.2448e-05" izz="0.001367788"/>
    </inertial>
  </link>
  <joint name="RL_calf_joint" type="revolute">
    <origin rpy="0 0 0" xyz="0 0 -0.2"/>
    <parent link="RL_thigh"/>
    <child link="RL_calf"/>
    <axis xyz="0 1 0"/>
    <dynamics damping="10.0" friction="10."/>
    <limit effort="33.5" lower="-2.69653369433" upper="-0.916297857297" velocity="21"/>
  </joint>
  <link name="RL_calf">
    <visual>
      <origin rpy="0 0 0" xyz="0 0 0"/>
      <geometry>
        <mesh filename="../meshes/calf.dae" scale="1 1 1"/>
      </geometry>
      <material name="orange"/>
    </visual>
    <collision>
      <origin rpy="0 1.57079632679 0" xyz="0 0 -0.1"/>
      <geometry>
        <box size="0.2 0.016 0.016"/>
      </geometry>
    </collision>
    <inertial>
      <origin rpy="0 0 0" xyz="0.006435 0.0 -0.107388"/>
      <mass value="0.166"/>
      <inertia ixx="0.002997972" ixy="0.0" ixz="-0.000141163" iyy="0.003014022" iyz="0.0" izz="3.2426e-05"/>
    </inertial>
  </link>
  <joint name="RL_foot_fixed" type="fixed" dont_collapse="true">
    <origin rpy="0 0 0" xyz="0 0 -0.2"/>
    <parent link="RL_calf"/>
    <child link="RL_foot"/>
  </joint>
  <link name="RL_foot">
    <visual>
      <origin rpy="0 0 0" xyz="0 0 0"/>
      <geometry>
        <sphere radius="0.01"/>
      </geometry>
      <material name="orange"/>
    </visual>
    <collision>
      <origin rpy="0 0 0" xyz="0 0 0"/>
      <geometry>
        <sphere radius="0.02"/>
      </geometry>
    </collision>
    <inertial>
      <mass value="0.06"/>
      <inertia ixx="9.6e-06" ixy="0.0" ixz="0.0" iyy="9.6e-06" iyz="0.0" izz="9.6e-06"/>
    </inertial>
  </link>
  <transmission name="RL_hip_tran">
    <type>transmission_interface/SimpleTransmission</type>
    <joint name="RL_hip_joint">
      <hardwareInterface>hardware_interface/EffortJointInterface</hardwareInterface>
    </joint>
    <actuator name="RL_hip_motor">
      <hardwareInterface>hardware_interface/EffortJointInterface</hardwareInterface>
      <mechanicalReduction>1</mechanicalReduction>
    </actuator>
  </transmission>
  <transmission name="RL_thigh_tran">
    <type>transmission_interface/SimpleTransmission</type>
    <joint name="RL_thigh_joint">
      <hardwareInterface>hardware_interface/EffortJointInterface</hardwareInterface>
    </joint>
    <actuator name="RL_thigh_motor">
      <hardwareInterface>hardware_interface/EffortJointInterface</hardwareInterface>
      <mechanicalReduction>1</mechanicalReduction>
    </actuator>
  </transmission>
  <transmission name="RL_calf_tran">
    <type>transmission_interface/SimpleTransmission</type>
    <joint name="RL_calf_joint">
      <hardwareInterface>hardware_interface/EffortJointInterface</hardwareInterface>
    </joint>
    <actuator name="RL_calf_motor">
      <hardwareInterface>hardware_interface/EffortJointInterface</hardwareInterface>
      <mechanicalReduction>1</mechanicalReduction>
    </actuator>
  </transmission>
  <!-- <xacro:stairs stairs="15" xpos="0" ypos="2.0" zpos="0" /> -->

<!-- connect with the arm -->
  <joint name="base_static_joint" type="fixed">
    <origin rpy="0 -1.57 0" xyz="0. 0 0.05"/>
    <parent link="trunk"/>
    <child link="wx200/ba_link"/>
  </joint>

  <link name="wx200/ba_link">
    <visual>
      <origin rpy="0 0 1.57079632679" xyz="0 0 0"/>
      <geometry>
        <mesh filename="../meshes/wx200_1_base.dae" scale="0.001 0.001 0.001"/>
      </geometry>
      <material name="orange"/>
    </visual>
    <collision>
      <!-- <origin rpy="0 0 1.57079632679" xyz="0 0 0"/> -->
      <origin rpy="1.57079632679 0 1.57079632679" xyz="0 0 0"/>
      <geometry>
        <mesh filename="../meshes/wx200_1_base.dae" scale="0.001 0.001 0.001"/>
      </geometry>
    </collision>
    <inertial>
      <origin rpy="0 0 1.57079632679" xyz="-0.0381747000 0.0006478630 0.0193458000"/>
      <mass value="0.540142"/>
      <inertia ixx="0.0021190000" ixy="-0.0000172100" ixz="0.0000006389" iyy="0.0006925000" iyz="0.0000461200" izz="0.0025280000"/>
    </inertial>
  </link>

  <joint name="waist" type="revolute">
    <axis xyz="1 0 0"/>
    <limit effort="28" lower="-3.14158265359" upper="3.14158265359" velocity="13.14159265359"/>
    <!-- <origin rpy="0 0 0" xyz="0 0 0.072"/> -->
    <origin rpy="0 0 0" xyz="0.072 0 0"/>
    <parent link="wx200/ba_link"/>
    <child link="wx200/shoulder_link"/>
    <dynamics damping="0.0" friction="0."/>
  </joint>

  <link name="wx200/shoulder_link">
    <visual>
      <origin rpy="0 0 1.57079632679" xyz="0 0 -0.003"/>
      <geometry>
        <mesh filename="../meshes/wx200_2_shoulder.dae" scale="0.001 0.001 0.001"/>
      </geometry>
      <material name="red"/>
    </visual>
    <collision>
      <!-- <origin rpy="0 0 1.57079632679" xyz="0 0 -0.003"/> -->
      <origin rpy="1.57079632679 0 1.57079632679" xyz="0 0 -0.003"/>
      <geometry>
        <mesh filename="../meshes/wx200_2_shoulder.dae" scale="0.001 0.001 0.001"/>
      </geometry>
    </collision>
    <inertial>
      <origin rpy="0 0 1.57079632679" xyz="0.0000223210 0.0000414608 0.0066287000"/>
      <mass value="0.480879"/>
      <inertia ixx="0.0003790000" ixy="0.0000000022" ixz="-0.0000003561" iyy="0.0005557000" iyz="0.0000012247" izz="0.0005889000"/>
    </inertial>
  </link>

  <joint name="shoulder" type="revolute">
    <!-- <axis xyz="0 1 0"/> -->
    <axis xyz="0 1 0"/>
    <limit effort="18" lower="-1.88495559215" upper="1.97222205475" velocity="3.14159265359"/>
    <!-- <origin rpy="0 0 0" xyz="0 0 0.03865"/> -->
    <origin rpy="0 0 0" xyz="0.03865 0 0"/>
    <parent link="wx200/shoulder_link"/>
    <child link="wx200/upper_arm_link"/>
    <dynamics damping="0.0" friction="0."/>
  </joint>
 
  <link name="wx200/upper_arm_link">
    <visual>
      <origin rpy="0 0 1.57079632679" xyz="0 0 0"/>
      <geometry>
        <mesh filename="../meshes/wx200_3_upper_arm.dae" scale="0.001 0.001 0.001"/>
      </geometry>
      <material name="black"/>
    </visual>
    <collision>
      <!-- <origin rpy="0 0 1.57079632679" xyz="0 0 0"/> -->
      <origin rpy="1.57079632679 0 1.57079632679" xyz="0 0 0"/>
      <geometry>
        <mesh filename="../meshes/wx200_3_upper_arm.dae" scale="0.001 0.001 0.001"/>
      </geometry>
    </collision>
    <inertial>
      <origin rpy="0 0 1.57079632679" xyz="0.0119707000 -0.0001179264 0.1394290000"/>
      <mass value="0.297781"/>
      <inertia ixx="0.0017100000" ixy="-0.0000011433" ixz="0.0000021161" iyy="0.0016310000" iyz="0.0002135000" izz="0.0001482000"/>
    </inertial>
  </link>

  <joint name="elbow" type="revolute">
    <!-- <axis xyz="0 1 0"/> -->
    <axis xyz="0 1 0"/>
    <limit effort="13" lower="-1.88495559215" upper="1.62315620435" velocity="3.14159265359"/>
    <!-- <origin rpy="0 0 0" xyz="0.05 0 0.2"/> -->
    <origin rpy="0 0 0" xyz="0.2 0 -0.05"/>
    <parent link="wx200/upper_arm_link"/>
    <child link="wx200/forearm_link"/>
    <dynamics damping="0.0" friction="0."/>
  </joint>
 
  <link name="wx200/forearm_link">
    <visual>
      <origin rpy="0 0 1.57079632679" xyz="0 0 0"/>
      <geometry>
        <mesh filename="../meshes/wx200_4_forearm.dae" scale="0.001 0.001 0.001"/>
      </geometry>
      <material name="red"/>
    </visual>
    <collision>
      <!-- <origin rpy="0 0 1.57079632679" xyz="0 0 0"/> -->
      <origin rpy="1.57079632679 0 1.57079632679" xyz="0 0 0"/>
      <geometry>
        <mesh filename="../meshes/wx200_4_forearm.dae" scale="0.001 0.001 0.001"/>
      </geometry>
    </collision>
    <inertial>
      <origin rpy="0 0 1.57079632679" xyz="0.1211920000 -0.0001238123 0.0000000000"/>
      <mass value="0.283651"/>
      <inertia ixx="0.0011850000" ixy="-0.0000024317" ixz="0.0000000000" iyy="0.0000682900" iyz="0.0000000000" izz="0.0012060000"/>
    </inertial>
  </link>

  <joint name="wrist_angle" type="revolute">
    <axis xyz="0 1 0"/>
    <limit effort="5" lower="-1.74532925199" upper="2.14675497995" velocity="3.14159265359"/>
    <!-- <origin rpy="0 0 0" xyz="0.2 0 0"/> -->
    <origin rpy="0 0 0" xyz="0 0 -0.2"/>
    <parent link="wx200/forearm_link"/>
    <child link="wx200/wrist_link"/>
    <dynamics damping="0.0" friction="0."/>
  </joint>
 
  <link name="wx200/wrist_link">
    <visual>
      <origin rpy="0 0 1.57079632679" xyz="0 0 0"/>
      <geometry>
        <mesh filename="../meshes/wx200_5_wrist.dae" scale="0.001 0.001 0.001"/>
      </geometry>
      <material name="orange"/>
    </visual>
    <collision>
      <!-- <origin rpy="0 0 1.57079632679" xyz="0 0 0"/> -->
      <origin rpy="1.57079632679 0 1.57079632679" xyz="0 0 0"/>
      <geometry>
        <mesh filename="../meshes/wx200_5_wrist.dae" scale="0.001 0.001 0.001"/>
      </geometry>
    </collision>
    <inertial>
      <origin rpy="0 0 1.57079632679" xyz="0.0423600000 -0.0000106630 0.0105770000"/>
      <mass value="0.084957"/>
      <inertia ixx="0.0000308200" ixy="0.0000000191" ixz="0.0000000023" iyy="0.0000282200" iyz="0.0000025481" izz="0.0000315200"/>
    </inertial>
  </link>

  <joint name="wrist_rotate" type="revolute">
    <!-- <axis xyz="1 0 0"/> -->
    <axis xyz="0 0 -1"/>
    <limit effort="1" lower="-3.14158265359" upper="3.14158265359" velocity="3.14159265359"/>
    <!-- <origin rpy="0 0 0" xyz="0.065 0 0"/> -->
    <origin rpy="0 0 0" xyz="0.0 0 -0.045"/>
    <parent link="wx200/wrist_link"/>
    <child link="wx200/gripper_link"/>
    <dynamics damping="0.0" friction="0."/>
  </joint>
 
  <link name="wx200/gripper_link">
    <visual>
      <!-- <origin rpy="0 0 1.57079632679" xyz="-0.02 0 0"/> -->
      <origin rpy="0 0 1.57079632679" xyz="0 0 0"/>
      <geometry>
        <mesh filename="../meshes/wx200_6_gripper.dae" scale="0.001 0.001 0.001"/>
      </geometry>
      <material name="green"/>
    </visual>
    <collision>
      <!-- <origin rpy="0 0 1.57079632679" xyz="-0.02 0 0"/> -->
      <origin rpy="1.57079632679 0 1.57079632679" xyz="0 0 0"/>
      <geometry>
        <mesh filename="../meshes/wx200_6_gripper.dae" scale="0.001 0.001 0.001"/>
      </geometry>
    </collision>
    <inertial>
      <origin rpy="0 0 1.57079632679" xyz="0.0216310000 0.0000002516 0.0114100000"/>
      <mass value="0.072885"/>
      <inertia ixx="0.0000253700" ixy="0.0000000000" ixz="0.0000000000" iyy="0.0000183600" iyz="0.0000004340" izz="0.0000167400"/>
    </inertial>
  </link>

  <!-- <joint name="ee_arm" type="fixed">
    <axis xyz="1 0 0"/>
    <axis xyz="0 0 1"/>
    <origin rpy="0 0 0" xyz="0.043 0 0"/>
    <origin rpy="0 0 0" xyz="0.0 0 -0.043"/>
    <parent link="wx200/gripper_link"/>
    <child link="wx200/ee_arm_link"/>
  </joint>

  <link name="wx200/ee_arm_link">
    <inertial>
      <mass value="0.001"/>
      <inertia ixx="0.001" ixy="0" ixz="0" iyy="0.001" iyz="0" izz="0.001"/>
    </inertial>
  </link> -->

  <joint name="gripper" type="fixed">
    <!-- <axis xyz="1 0 0"/> -->
    <axis xyz="0 0 1"/>
    <limit effort="1" velocity="3.14159265359"/>
    <!-- <origin rpy="0 0 0" xyz="0.0055 0 0"/> -->
    <origin rpy="0 0 0" xyz="0.083 0 0.0"/>
    <!-- <parent link="wx200/ee_arm_link"/> -->
    <parent link="wx200/gripper_link"/>
    <child link="wx200/gripper_prop_link"/>
    <dynamics damping="0.0" friction="0."/>
  </joint>
 
  <link name="wx200/gripper_prop_link">
    <visual>
      <origin rpy="0 0 1.57079632679" xyz="-0.0685 0 0"/>
      <geometry>
        <mesh filename="../meshes/wx200_7_gripper_prop.dae" scale="0.001 0.001 0.001"/>
      </geometry>
      <material name="blue"/>
    </visual>
    <collision>
      <!-- <origin rpy="0 0 1.57079632679" xyz="-0.0685 0 0"/> -->
      <origin rpy="1.57079632679 0 1.57079632679" xyz="-0.0685 0 0"/>
      <geometry>
        <mesh filename="../meshes/wx200_7_gripper_prop.dae" scale="0.001 0.001 0.001"/>
      </geometry>
    </collision>
    <inertial>
      <origin rpy="0 0 1.57079632679" xyz="0.0008460000 -0.0000016817 0.0000420000"/>
      <mass value="0.00434"/>
      <inertia ixx="0.0000005923" ixy="0.0000000000" ixz="0.0000003195" iyy="0.0000011156" iyz="-0.0000000004" izz="0.0000005743"/>
    </inertial>
  </link>
  <!-- If the AR tag is being used, then add the AR tag mount -->
  <!-- If the gripper bar is being used, then also add the gripper bar -->
  <joint name="gripper_bar" type="fixed">
    <!-- <axis xyz="1 0 0"/> -->
    <axis xyz="0 0 1"/>
    <!-- <origin rpy="0 0 0" xyz="0 0 0"/> -->
    <origin rpy="0 0 0" xyz="0.063 0 0.0"/>
    <!-- <parent link="wx200/ee_arm_link"/> -->
    <parent link="wx200/gripper_link"/>
    <child link="wx200/gripper_bar_link"/>
  </joint>

  <link name="wx200/gripper_bar_link">
    <visual>
      <origin rpy="0 0 1.57079632679" xyz="-0.063 0 0"/>
      <geometry>
        <mesh filename="../meshes/wx200_8_gripper_bar.dae" scale="0.001 0.001 0.001"/>
      </geometry>
      <material name="black"/>
    </visual>
    <collision>
      <!-- <origin rpy="0 0 1.57079632679" xyz="-0.063 0 0"/> -->
      <origin rpy="1.57079632679 0 1.57079632679" xyz="-0.063 0 0"/>
      <geometry>
        <mesh filename="../meshes/wx200_8_gripper_bar.dae" scale="0.001 0.001 0.001"/>
      </geometry>
    </collision>
    <inertial>
      <origin rpy="0 0 1.57079632679" xyz="0.0096870000 0.0000008177 0.0049620000"/>
      <mass value="0.034199"/>
      <inertia ixx="0.0000074125" ixy="-0.0000000008" ixz="-0.0000000006" iyy="0.0000284300" iyz="-0.0000013889" izz="0.0000286000"/>
    </inertial>
  </link>
  <!-- <joint name="ee_bar" type="fixed">
    <axis xyz="1 0 0"/>
    <origin rpy="0 0 0" xyz="0.023 0 0"/>
    <parent link="wx200/gripper_bar_link"/>
    <child link="wx200/fingers_link"/>
  </joint>
  <link name="wx200/fingers_link">
   <visual>
      <origin rpy="0 0 1.57079632679" xyz="0 0 0"/>
    </visual>
    <inertial>
      <mass value="0.001"/>
      <inertia ixx="0.001" ixy="0" ixz="0" iyy="0.001" iyz="0" izz="0.001"/>
    </inertial>
  </link> -->
  <!-- If the gripper fingers are being used, add those as well -->
  <joint name="left_finger" type="prismatic">
    <axis xyz="0 1 0"/>
    <limit effort="5" lower="0.015" upper="0.037" velocity="1"/>
    <!-- <origin rpy="0 0 0" xyz="0 0 0"/> -->
    <origin rpy="0 0 0" xyz="-0.063 -0.005 -0.086"/>
    <!-- <parent link="wx200/fingers_link"/> -->
    <parent link="wx200/gripper_bar_link"/>
    <child link="wx200/left_finger_link"/>
    <dynamics damping="0.0" friction="0."/>
  </joint>
 
  <link name="wx200/left_finger_link">
    <visual>
      <!-- <origin rpy="3.14159265359 3.14159265359 0" xyz="0 0.005 0"/> -->
      <origin rpy="1.57079632679 -1.57079632679 0" xyz="0 0.005 0"/>
      <geometry>
        <mesh filename="../meshes/wx200_9_gripper_finger.dae" scale="0.001 0.001 0.001"/>
      </geometry>
      <material name="blue"/>
    </visual>
    <collision>
      <!-- <origin rpy="3.14159265359 3.14159265359 0" xyz="0 0.005 0"/> -->
      <origin rpy="3.14159265359 -1.57079632679 0" xyz="0 0.005 0"/>
      <geometry>
        <mesh filename="../meshes/wx200_9_gripper_finger.dae" scale="0.001 0.001 0.001"/>
      </geometry>
    </collision>
    <inertial>
      <origin rpy="3.14159265359 3.14159265359 1.57079632679" xyz="0.0138160000 0.0000000000 0.0000000000"/>
      <mass value="0.016246"/>
      <inertia ixx="0.0000047310" ixy="-0.0000004560" ixz="0.0000000000" iyy="0.0000015506" iyz="0.0000000000" izz="0.0000037467"/>
    </inertial>
  </link>

  <joint name="right_finger" type="prismatic">
    <axis xyz="0 1 0"/>
    <limit effort="5" lower="-0.037" upper="-0.015" velocity="1"/>
    <!-- <origin rpy="0 0 0" xyz="0 0 0"/> -->
    <origin rpy="0 0 0" xyz="-0.063 -0.005 -0.086"/>
    <!-- <parent link="wx200/fingers_link"/> -->
    <parent link="wx200/gripper_bar_link"/>
    <child link="wx200/right_finger_link"/>
    <dynamics damping="0.0" friction="0."/>
    <mimic joint="left_finger" multiplier="-1" offset="0"/>
  </joint>
  
  <link name="wx200/right_finger_link">
    <visual>
      <!-- <origin rpy="0 3.14159265359 0" xyz="0 -0.005 0"/> -->
      <origin rpy="-1.57079632679 -1.57079632679 0" xyz="0 0.005 0"/>
      <geometry>
        <mesh filename="../meshes/wx200_9_gripper_finger.dae" scale="0.001 0.001 0.001"/>
      </geometry>
      <material name="red"/>
    </visual>
    <collision>
      <!-- <origin rpy="0 3.14159265359 0" xyz="0 -0.005 0"/> -->
      <origin rpy="0 -1.57079632679 0" xyz="0 0.005 0"/>
      <geometry>
        <mesh filename="../meshes/wx200_9_gripper_finger.dae" scale="0.001 0.001 0.001"/>
      </geometry>
    </collision>
    <inertial>
      <origin rpy="0 3.14159265359 1.57079632679" xyz="0.0138160000 0.0000000000  0.0000000000"/>
      <mass value="0.016246"/>
      <inertia ixx="0.0000047310" ixy="0.0000004560" ixz="0.0000000000" iyy="0.0000015506" iyz="0.0000000000" izz="0.0000037467"/>
    </inertial>
  </link>
  <joint name="ee_gripper" type="fixed"  dont_collapse="true">
    <!-- <axis xyz="1 0 0"/> -->
    <axis xyz="0 0 1"/>
    <!-- <origin rpy="0 0 0" xyz="0.027575 0 0"/> -->
    <origin rpy="0 0 0" xyz="-0.04 0.0 -0.08"/>
    <!-- <parent link="wx200/fingers_link"/> -->
    <parent link="wx200/gripper_bar_link"/>
    <child link="wx200/ee_gripper_link"/>
  </joint>
  <link name="wx200/ee_gripper_link">
    <inertial>
      <mass value="0.001"/>
      <inertia ixx="0.001" ixy="0" ixz="0" iyy="0.001" iyz="0" izz="0.001"/>
    </inertial>
  </link>

</robot>
